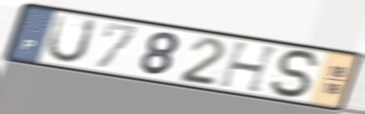2: (178, 35, 228, 87)
7: (95, 20, 140, 71)
8: (138, 31, 181, 77)
H: (216, 40, 283, 95)
S: (269, 48, 324, 100)
U: (44, 13, 100, 64)
